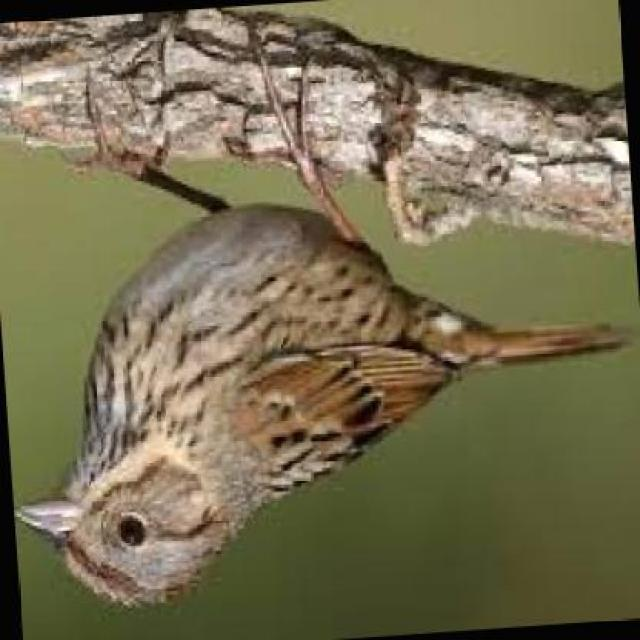Bird: (12, 200, 630, 619)
